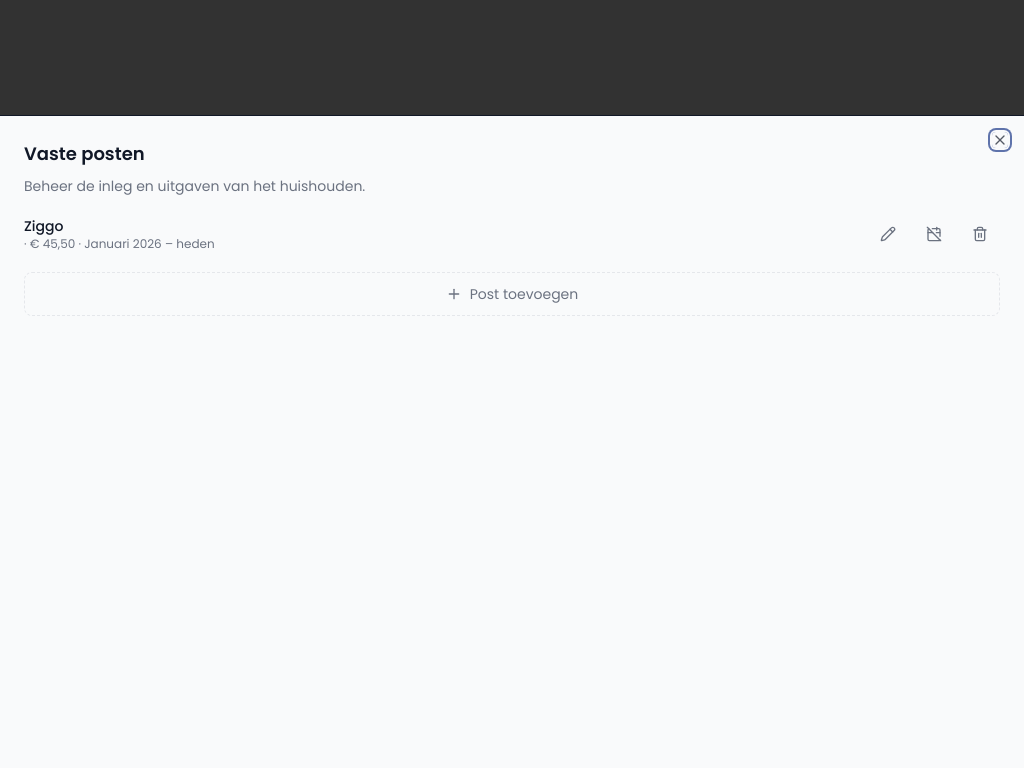
Scenario: BeheerSheet › editing a post › opens pre-filled with the current name and amount
Click the button named "Ziggo bewerken" at coordinates (888, 234), box left=868, top=214, right=908, bottom=254
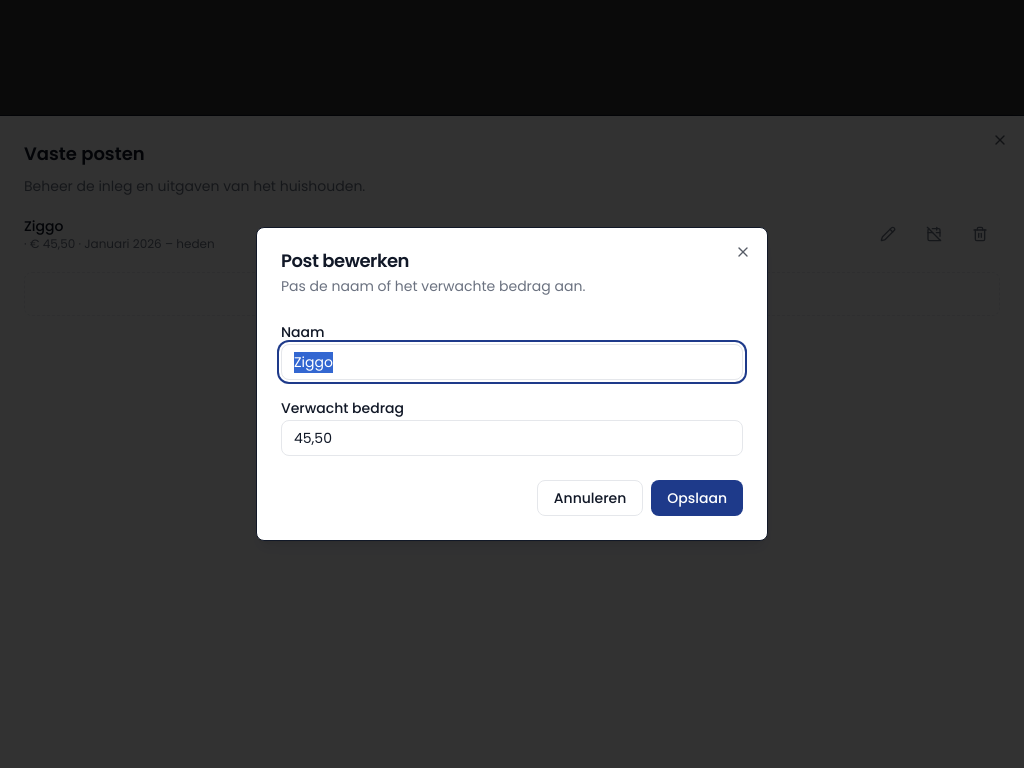
Expected: the field labelled "Naam" holds "Ziggo", left=281, top=344, right=743, bottom=380
Expected: the field labelled "Verwacht bedrag" holds "45,50", left=281, top=420, right=743, bottom=456
